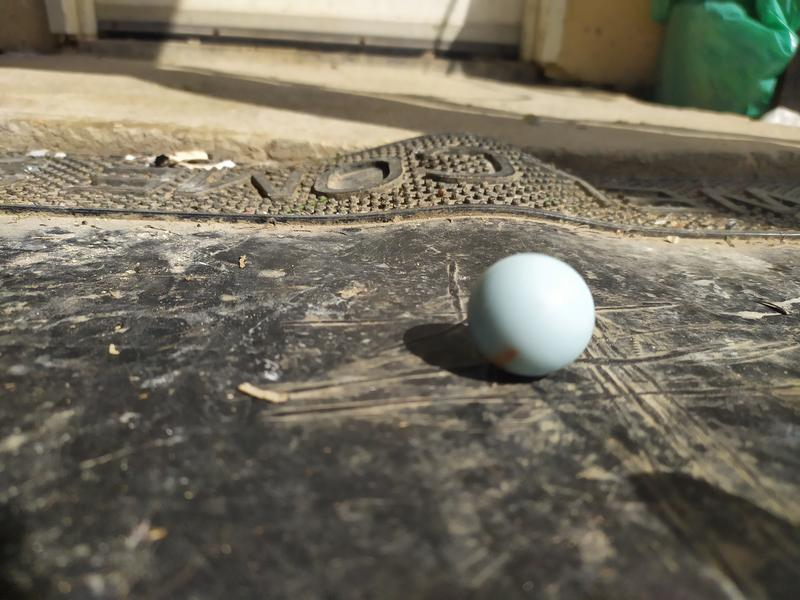Warning: (464, 249, 600, 382)
